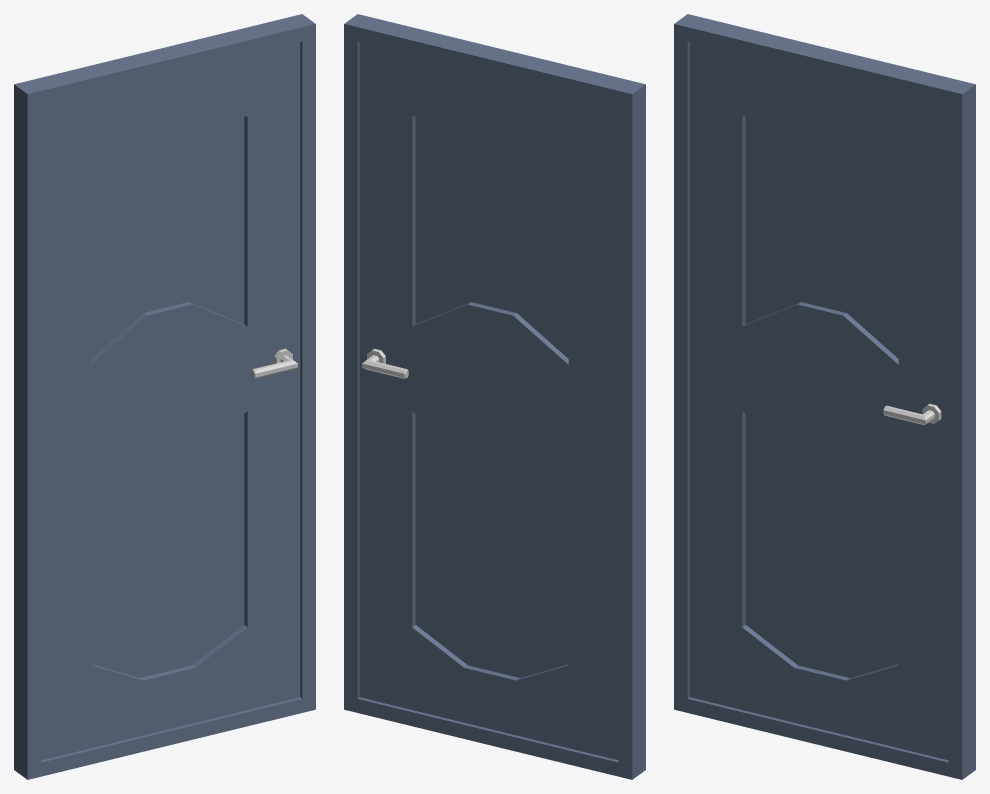
The model's file is Mesh_Door_D11.fbx.
3 renders of one model, left to right at view 1: azimuth 30°, elevation 25°; view 2: azimuth 150°, elevation 25°; view 3: azimuth 330°, elevation 25°, orthographic.
Parts seen in each view (by area): view 1: Mesh_Door_D11; view 2: Mesh_Door_D11; view 3: Mesh_Door_D11.
Boxes of the visible parts, x1=… form: Mesh_Door_D11: x1=14, y1=14, x2=315, y2=779; Mesh_Door_D11: x1=344, y1=14, x2=645, y2=779; Mesh_Door_D11: x1=674, y1=14, x2=975, y2=779.
Bounding box in the file's own units: 0.9 × 2.05 × 0.1742.
